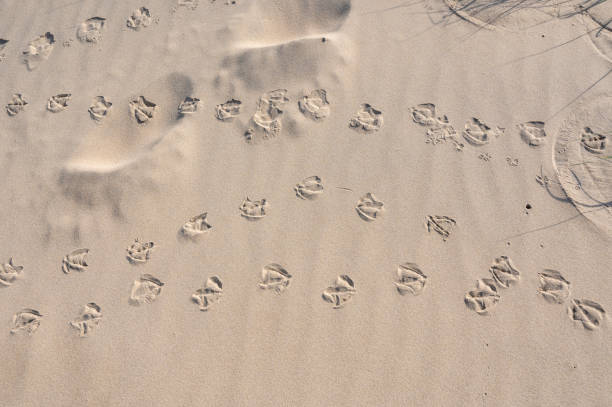animal_footprint: (410, 103, 463, 150), (250, 89, 288, 139), (426, 116, 463, 150), (464, 278, 499, 313), (462, 117, 503, 145), (23, 32, 54, 69), (568, 299, 605, 329), (322, 275, 356, 307), (69, 302, 101, 336), (191, 276, 222, 310), (538, 269, 569, 303), (394, 262, 426, 294), (129, 274, 163, 304), (348, 103, 382, 132), (298, 89, 329, 120), (259, 263, 291, 293), (489, 256, 519, 287), (10, 308, 41, 334), (180, 212, 211, 238), (355, 192, 383, 220), (76, 17, 106, 43), (129, 96, 156, 124), (126, 238, 154, 264), (426, 215, 455, 240), (518, 121, 545, 146), (294, 176, 323, 199), (62, 248, 88, 273), (581, 127, 606, 153), (0, 257, 23, 285), (126, 7, 152, 30), (239, 197, 267, 218), (88, 96, 111, 121), (410, 103, 435, 125), (215, 99, 241, 120), (5, 93, 27, 115), (47, 93, 71, 112), (178, 97, 199, 115), (177, 0, 199, 9), (0, 38, 8, 61), (506, 156, 518, 166), (478, 152, 491, 161), (0, 38, 8, 51)
